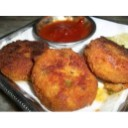cutlet: (33, 49, 94, 109), (86, 37, 128, 83), (1, 40, 48, 81)
